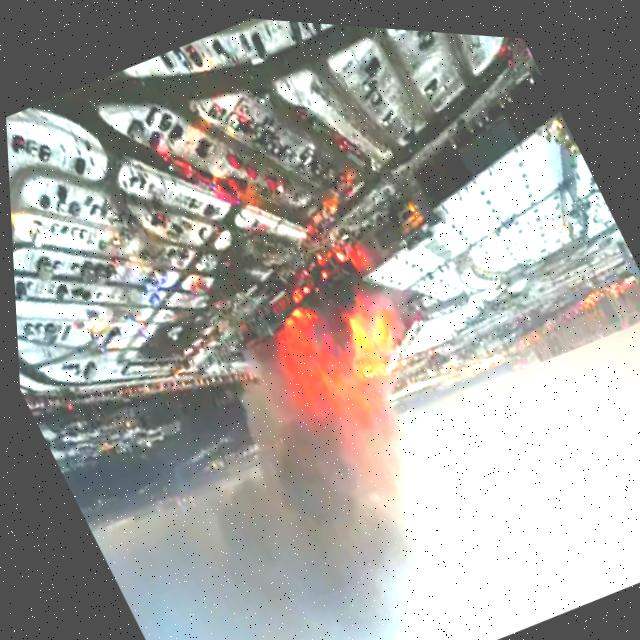Fire: (251, 255, 430, 449)
Smoke: (77, 385, 483, 640)
